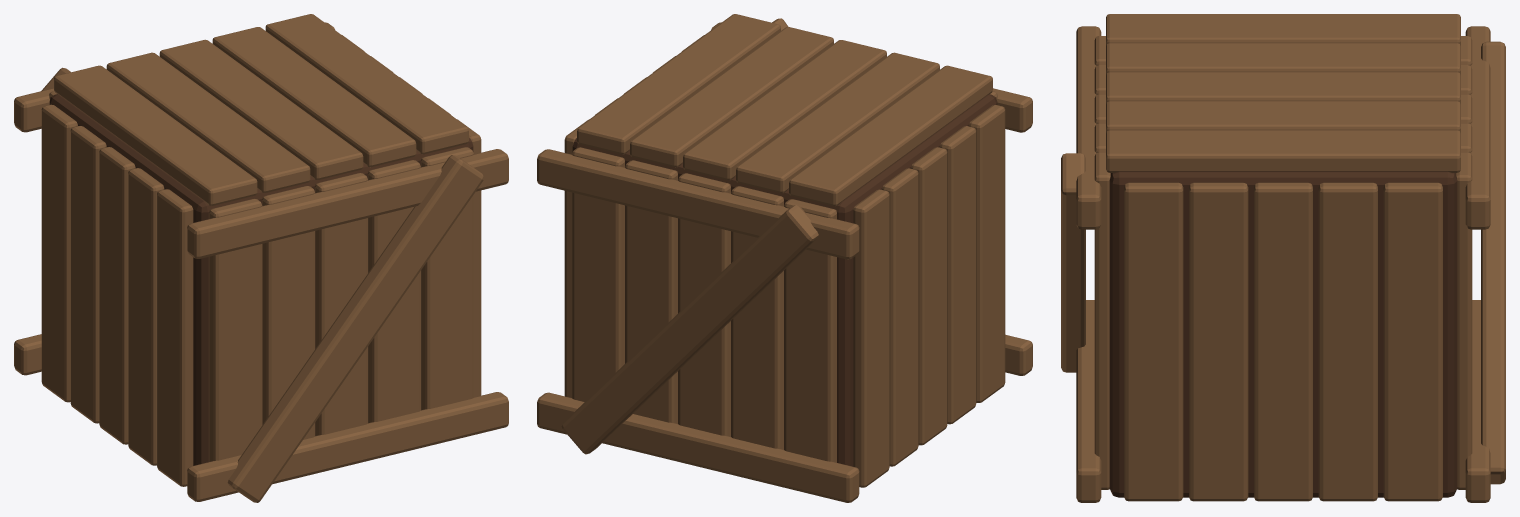
File: crate.glb
3 views of the same model, side by side, from view 1: azimuth 30°, elevation 25°; view 2: azimuth 150°, elevation 25°; view 3: azimuth 270°, elevation 25° (orthographic). The views are drawn at different scales.
Parts seen in each view (by area): view 1: Crate_diagonal, Crate_face_plank, Crate_crossbeam.001, Crate_side_plank, Crate_lid_plank, Crate_crossbeam, Crate_face_plank.004, Crate_lid_plank.001, Crate_lid_plank.003, Crate_lid_plank.002, Crate_lid_plank.004, Crate_face_plank.001 (+10 smaller); view 2: Crate_diagonal.001, Crate_face_plank.005, Crate_crossbeam.003, Crate_face_plank.009, Crate_crossbeam.002, Crate_side_plank.004, Crate_lid_plank, Crate_lid_plank.003, Crate_lid_plank.004, Crate_lid_plank.001, Crate_lid_plank.002, Crate_face_plank.006 (+10 smaller); view 3: Crate_core, Crate_side_plank.006, Crate_side_plank.008, Crate_side_plank.005, Crate_side_plank.009, Crate_side_plank.007, Crate_lid_plank.004, Crate_lid_plank.003, Crate_lid_plank.001, Crate_lid_plank.002, Crate_lid_plank, Crate_diagonal.001 (+7 smaller).
Boxes of the visible parts, x1,y1,x2,y2 form: Crate_diagonal: [227, 155, 484, 502]; Crate_face_plank: [209, 198, 262, 461]; Crate_crossbeam.001: [187, 149, 508, 258]; Crate_side_plank: [157, 189, 193, 486]; Crate_lid_plank: [54, 65, 257, 205]; Crate_crossbeam: [187, 392, 508, 501]; Crate_face_plank.004: [421, 147, 473, 410]; Crate_lid_plank.001: [106, 52, 310, 192]; Crate_lid_plank.003: [212, 27, 416, 167]; Crate_lid_plank.002: [159, 39, 363, 179]; Crate_lid_plank.004: [265, 14, 468, 154]; Crate_face_plank.001: [262, 186, 314, 439]; Crate_diagonal.001: [561, 204, 818, 454]; Crate_face_plank.005: [784, 199, 836, 462]; Crate_crossbeam.003: [537, 149, 859, 259]; Crate_face_plank.009: [572, 147, 624, 401]; Crate_crossbeam.002: [537, 392, 859, 502]; Crate_side_plank.004: [853, 189, 889, 487]; Crate_lid_plank: [789, 65, 992, 206]; Crate_lid_plank.003: [630, 27, 833, 167]; Crate_lid_plank.004: [577, 14, 780, 154]; Crate_lid_plank.001: [736, 52, 939, 193]; Crate_lid_plank.002: [683, 40, 886, 180]; Crate_face_plank.006: [731, 186, 783, 449]; Crate_core: [1109, 171, 1457, 497]; Crate_side_plank.006: [1189, 182, 1248, 501]; Crate_side_plank.008: [1318, 182, 1377, 501]; Crate_side_plank.005: [1124, 182, 1183, 501]; Crate_side_plank.009: [1383, 182, 1442, 501]; Crate_side_plank.007: [1254, 182, 1312, 501]; Crate_lid_plank.004: [1106, 130, 1460, 172]; Crate_lid_plank.003: [1106, 101, 1460, 132]; Crate_lid_plank.001: [1106, 43, 1460, 74]; Crate_lid_plank.002: [1106, 72, 1460, 103]; Crate_lid_plank: [1106, 14, 1460, 45]; Crate_diagonal.001: [1481, 41, 1505, 484].
Bounding box in the file's own units: 1.07 × 0.9948 × 1.17.
